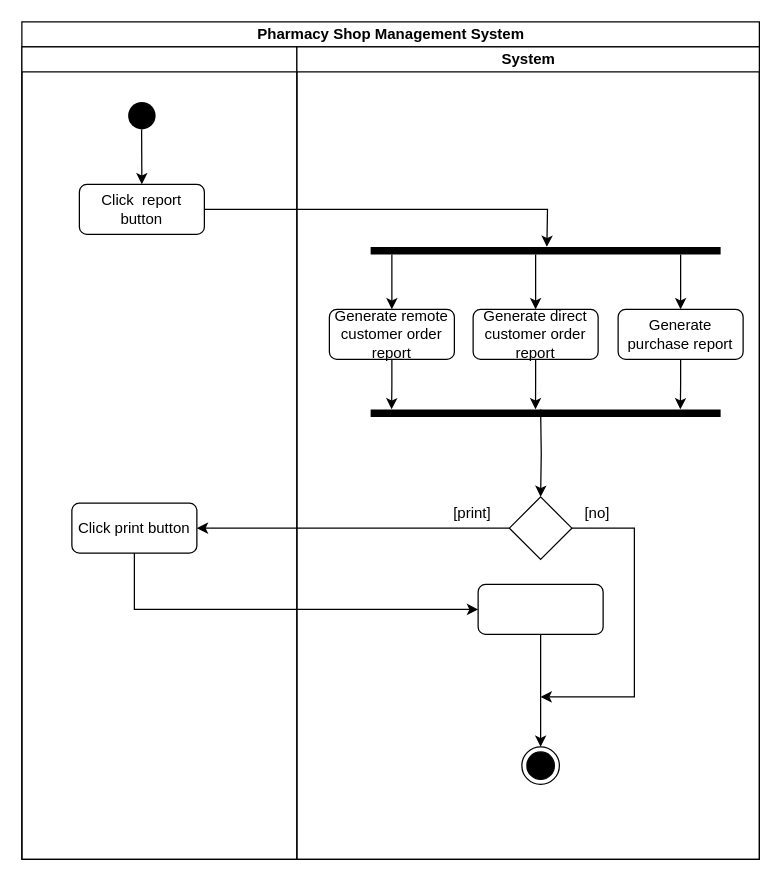
Some shapes in this 781 by 881 pixel diagram are drawn without their labels. Each missing label, with the box of its shape:
Print report: (477, 583, 603, 634)
Staff: (21, 46, 297, 859)
